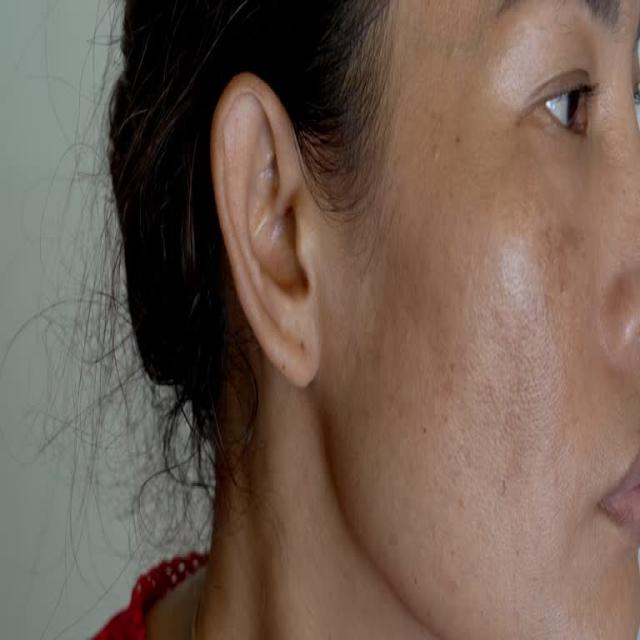pigmentation: (501, 234, 600, 294)
